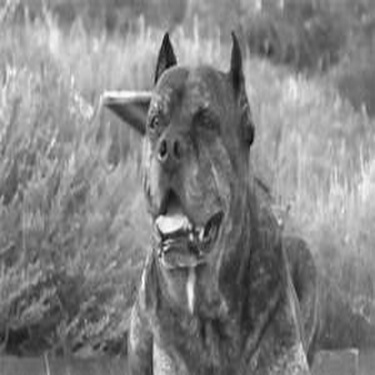dog: (84, 19, 328, 370)
